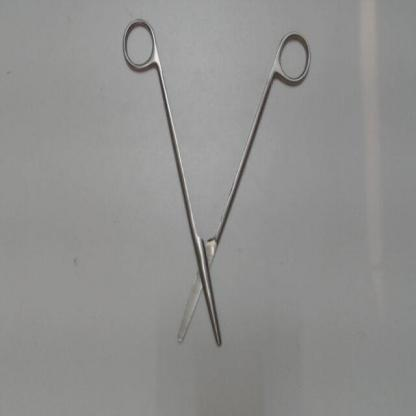9 Metzenbaum Scissors: (118, 16, 316, 351)
